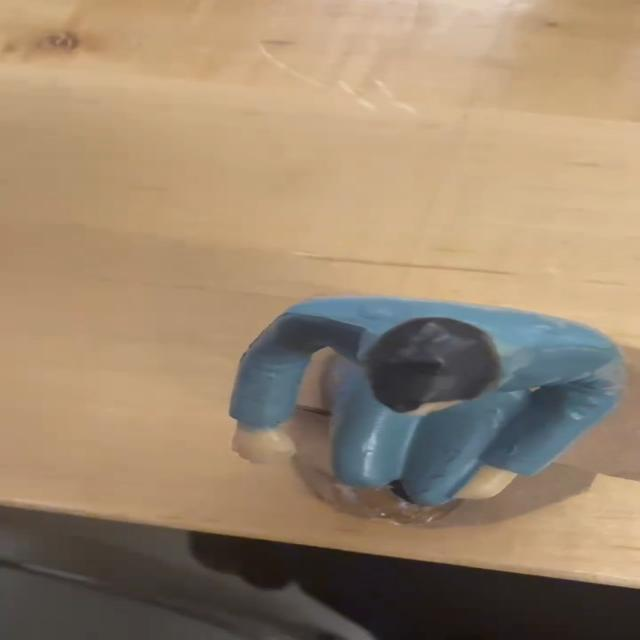Authorized: (220, 289, 640, 531)
